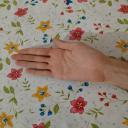OpenPalm: (10, 37, 106, 83)
